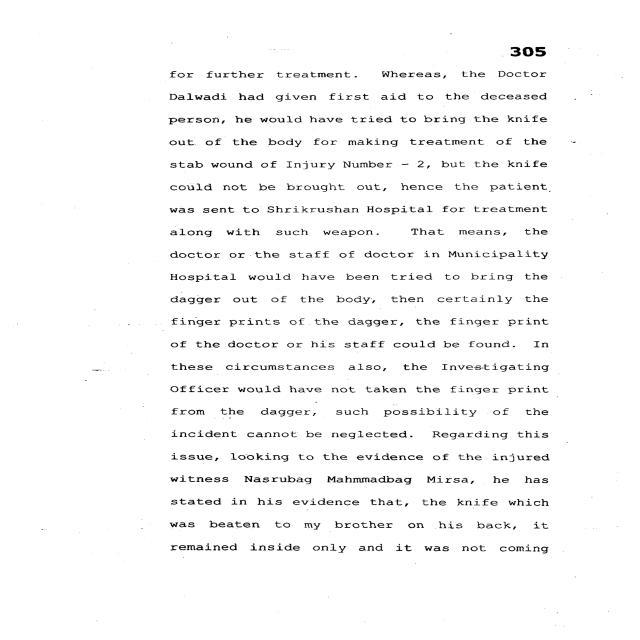page-number: (414, 0, 636, 62)
